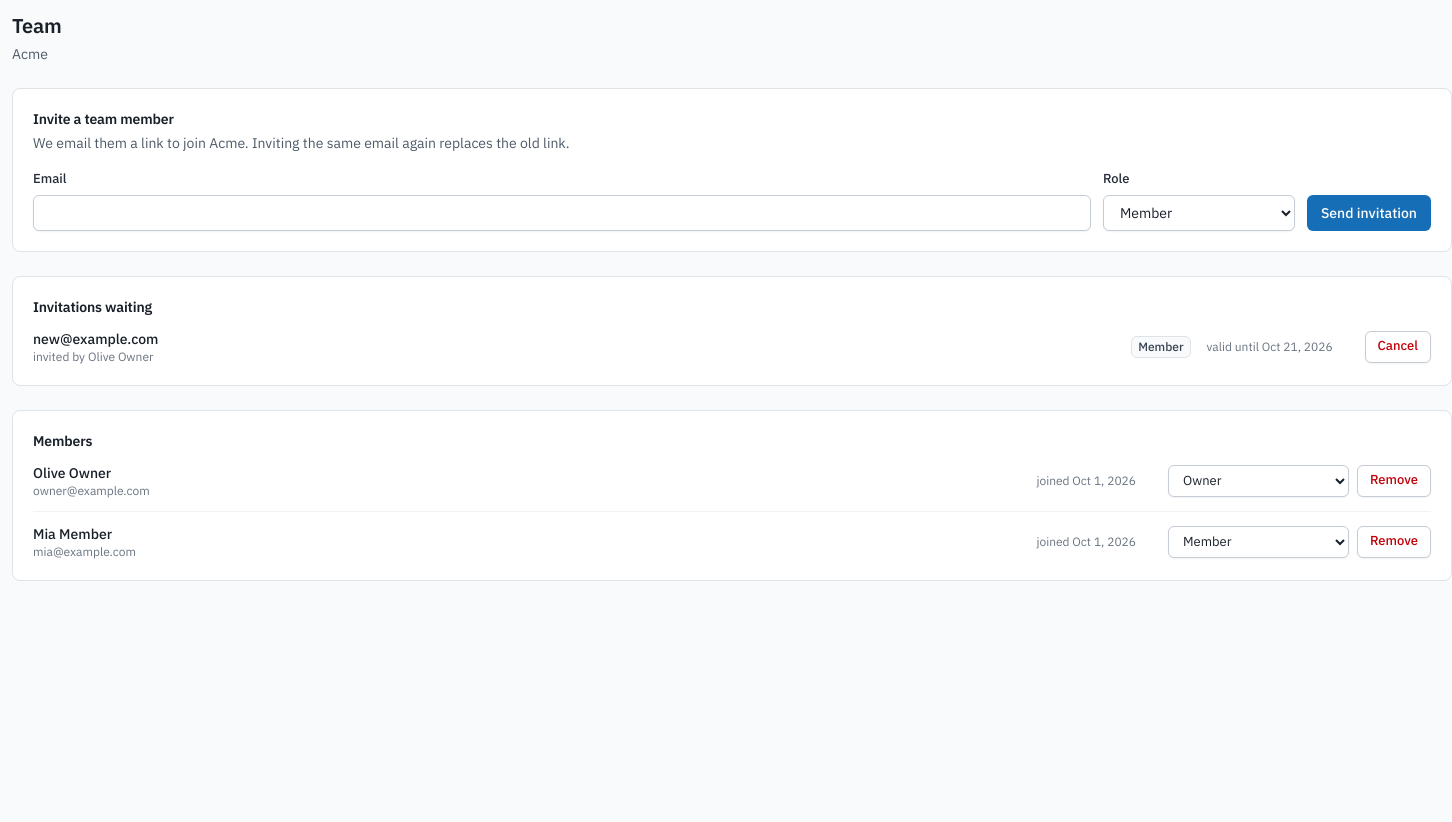
Test case: TeamPage › lets an owner give the owner role, and cancels an invitation
The width and height of the screenshot is (1452, 822).
Select "Admin" in the dropdown named "Role of Mia Member" in the row of "Mia Member" at (1258, 542), box [1168,526,1349,558]
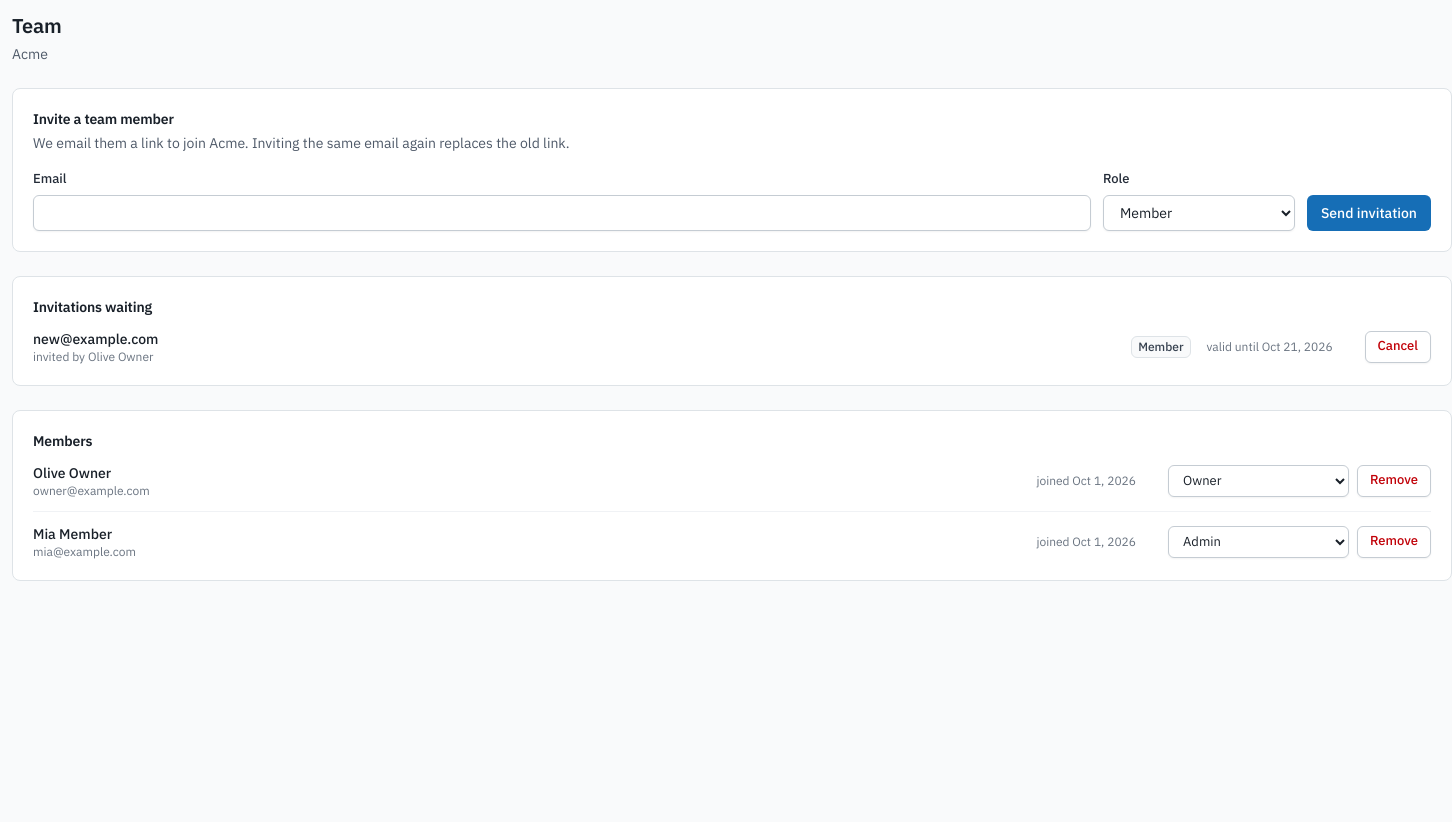
Click the button "Cancel" at (1398, 346), box [1365,330,1431,362]
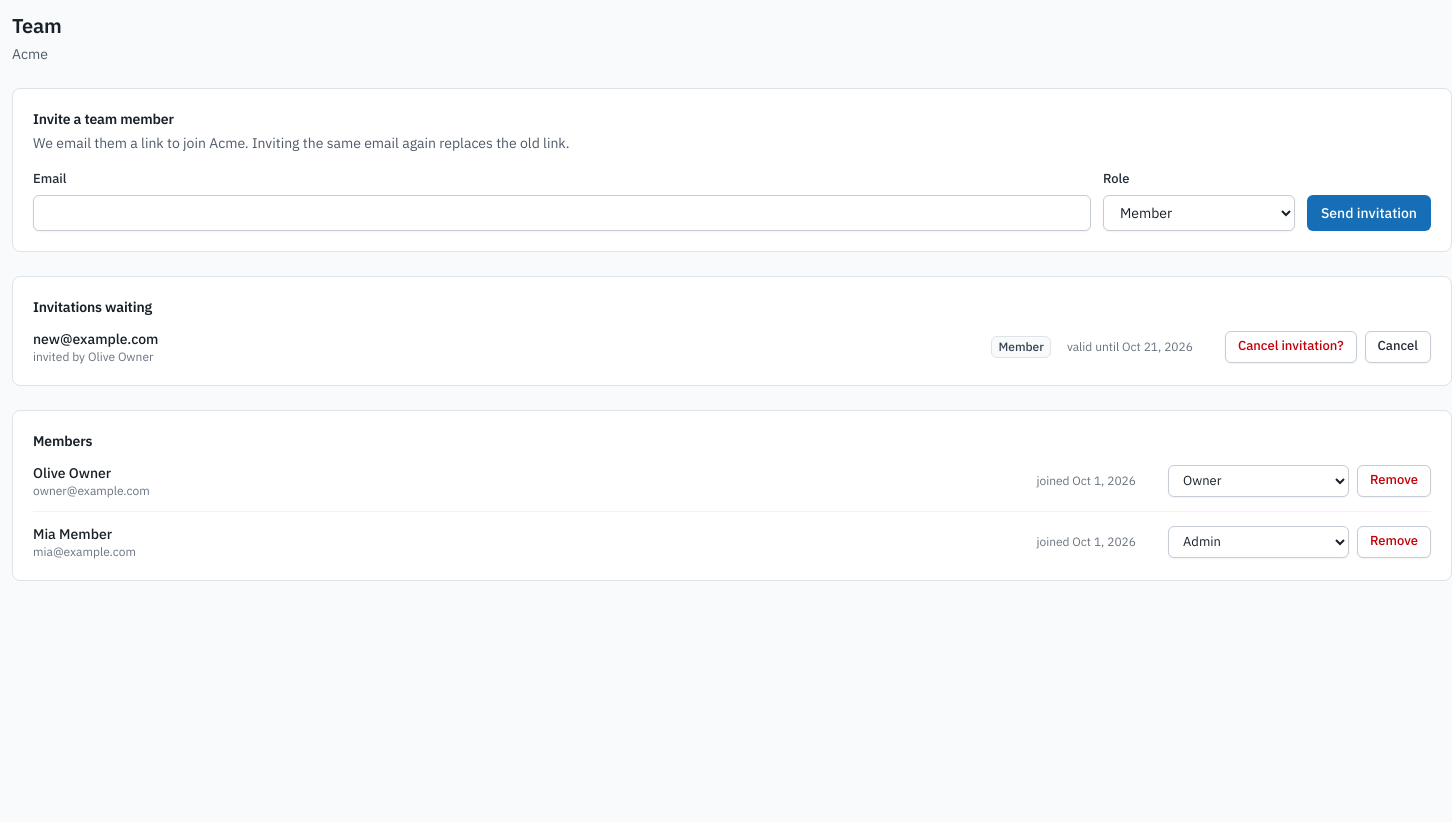
Click the button "Cancel invitation?" at (1291, 346), box [1225,330,1357,362]
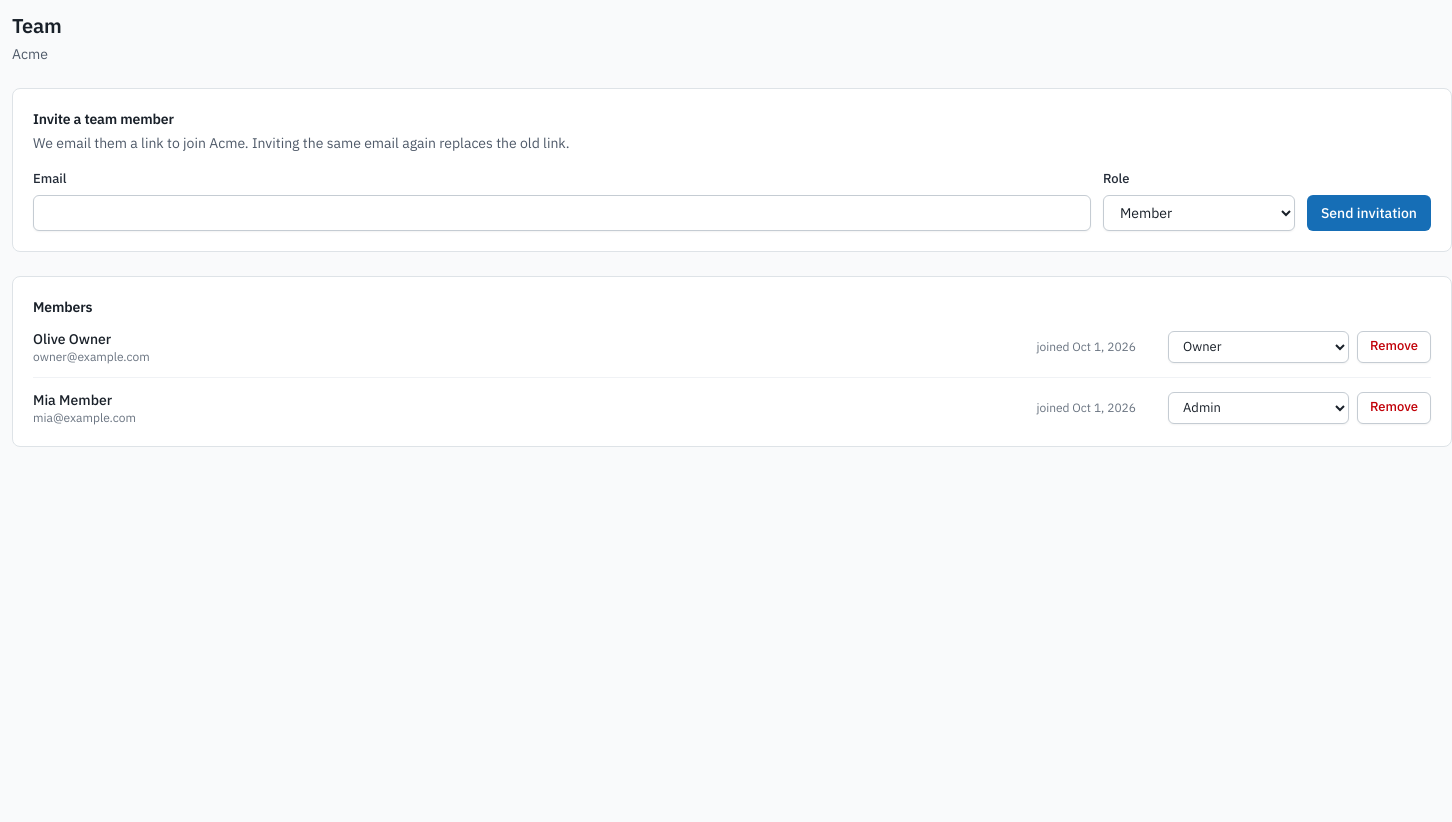
Now the text "new@example.com" is gone
